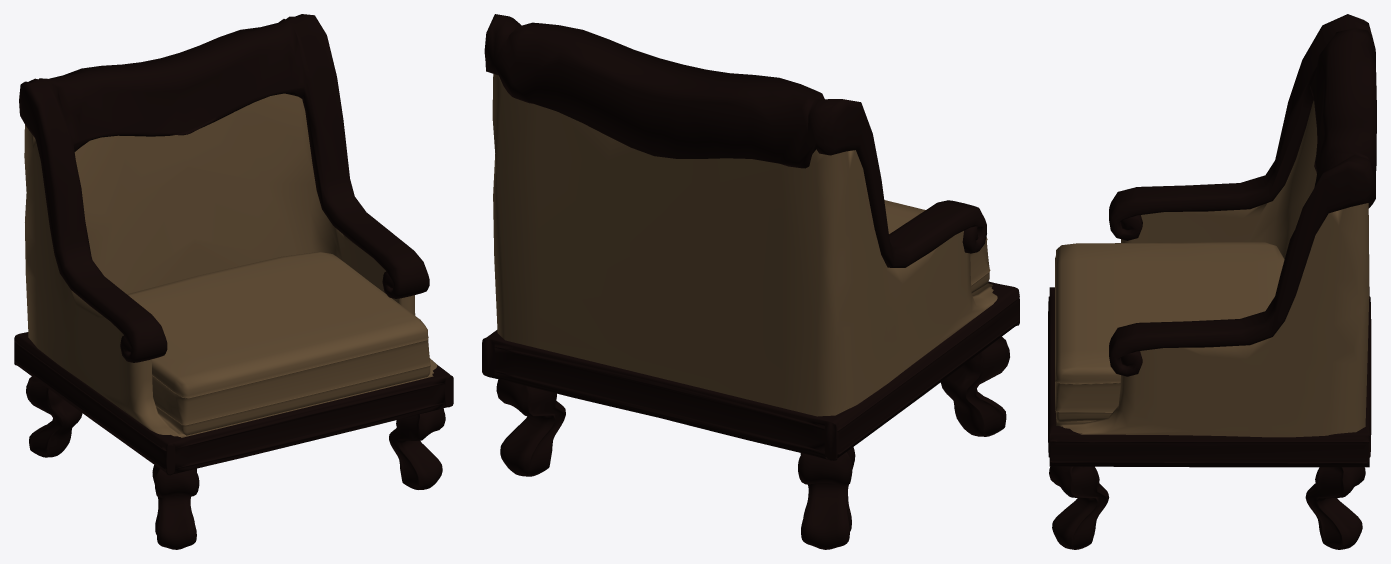
File: Chair.FBX
3 renders of one model, left to right at view 1: azimuth 30°, elevation 25°; view 2: azimuth 150°, elevation 25°; view 3: azimuth 270°, elevation 25°, orthographic. The views are drawn at different scales.
Visible parts, largest first — view 1: Box001, Box008; view 2: Box001, Box008; view 3: Box001, Box008.
Boxes of the visible parts, box(x1,y1,x2,y2) form: Box001: box(24, 93, 437, 437); Box008: box(14, 14, 453, 549); Box001: box(492, 74, 997, 416); Box008: box(482, 14, 1019, 549); Box001: box(1055, 100, 1369, 437); Box008: box(1048, 14, 1376, 549).
Bounding box in the file's own units: 48.34 × 57.89 × 43.51.
